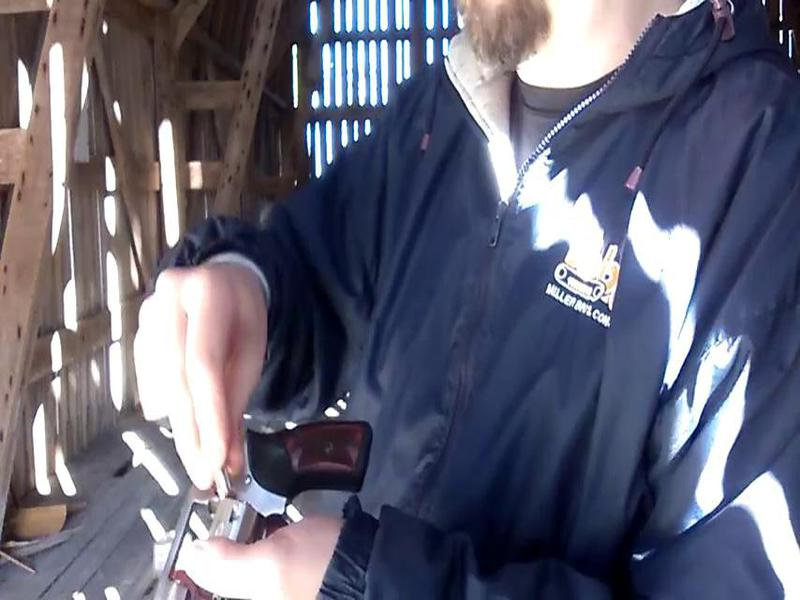Revolver: (132, 374, 381, 600)
